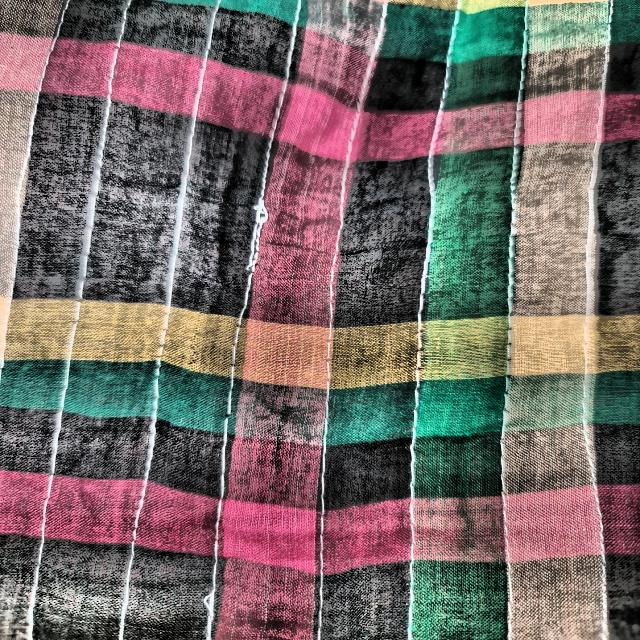Stitch: (220, 165, 290, 326)
